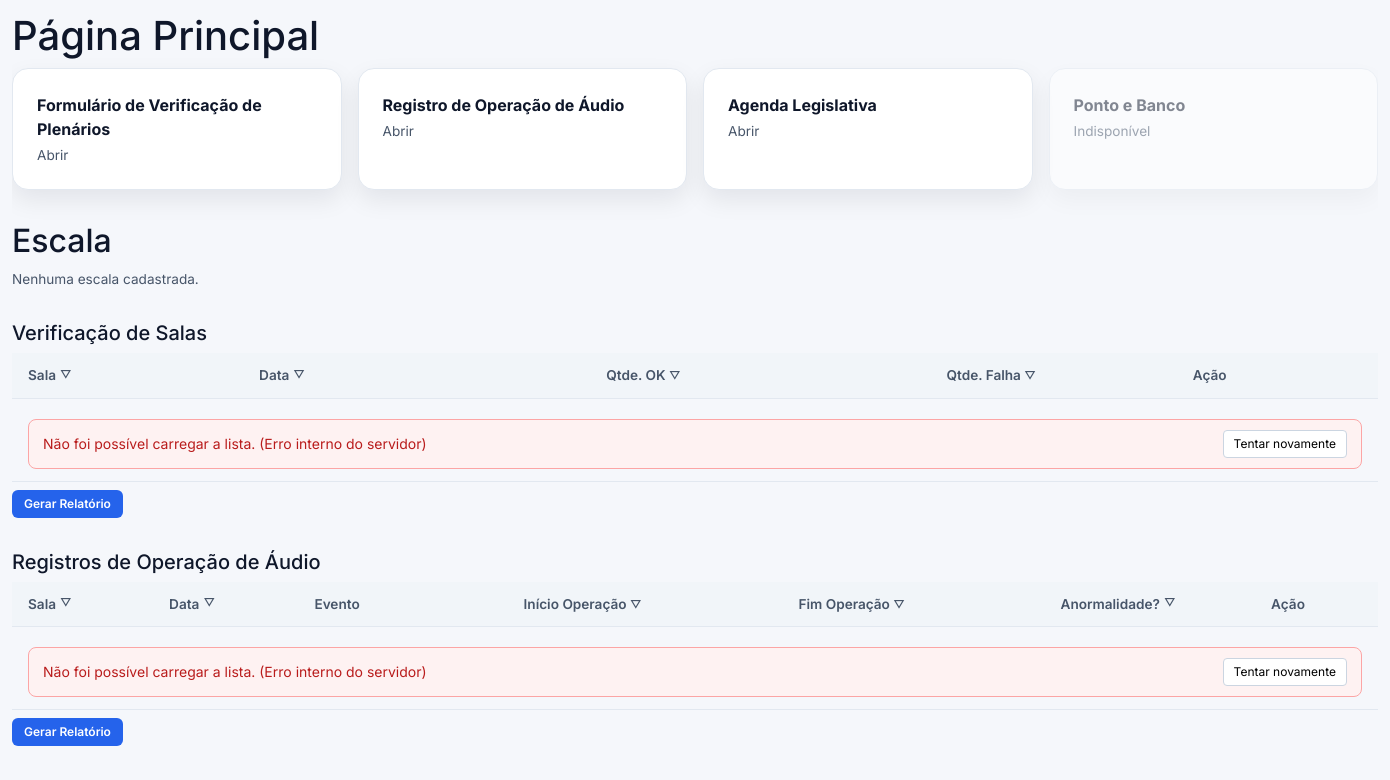
HomeComponent (canal de erro das listagens) › isolamento entre as tabelas › o retry de uma tabela não ressuscita o erro da outra: cada caixa some sozinha
Click the button "Tentar novamente" below "Qtde. Falha" at point(1285, 444), box [1223,430,1347,458]
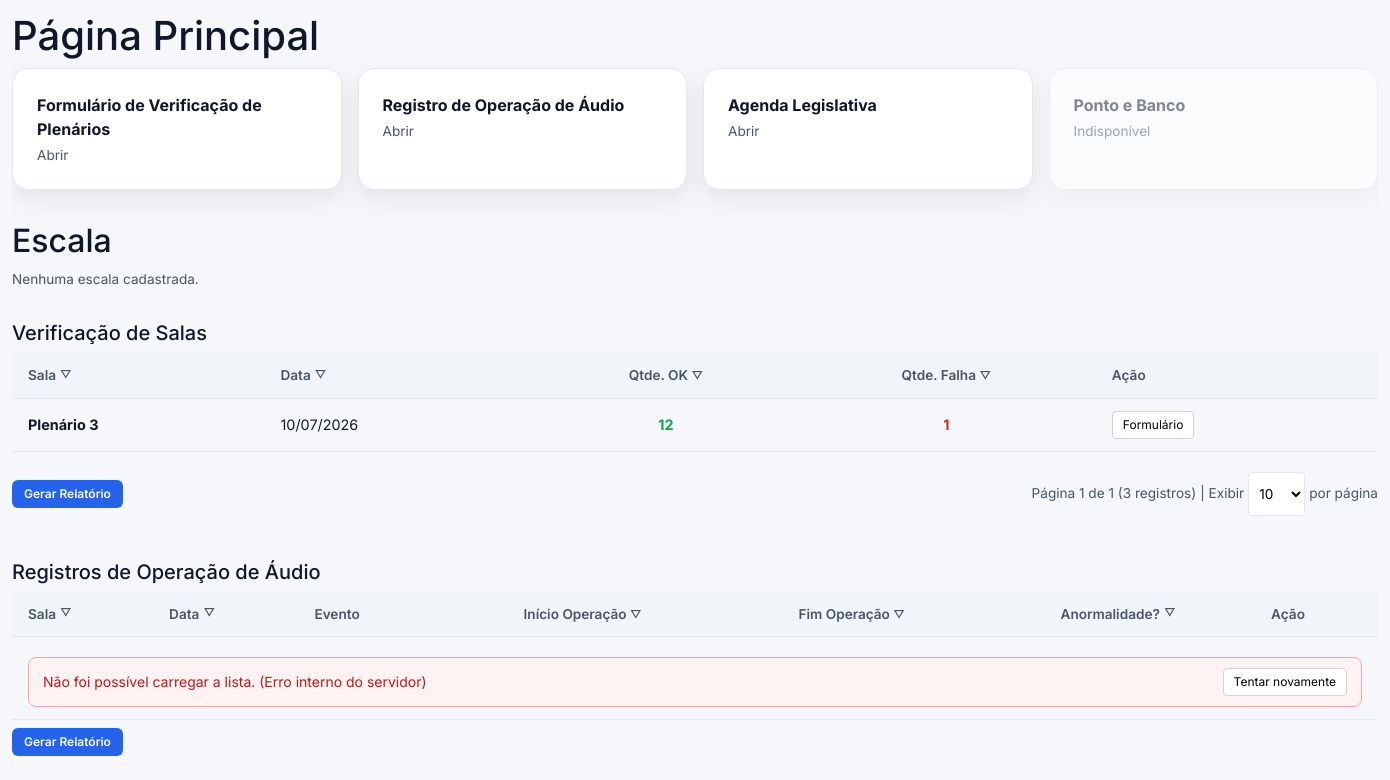
Now the element that starts with "Verificação de Salas" shows "Plenário 3", box [28,416,98,433]
